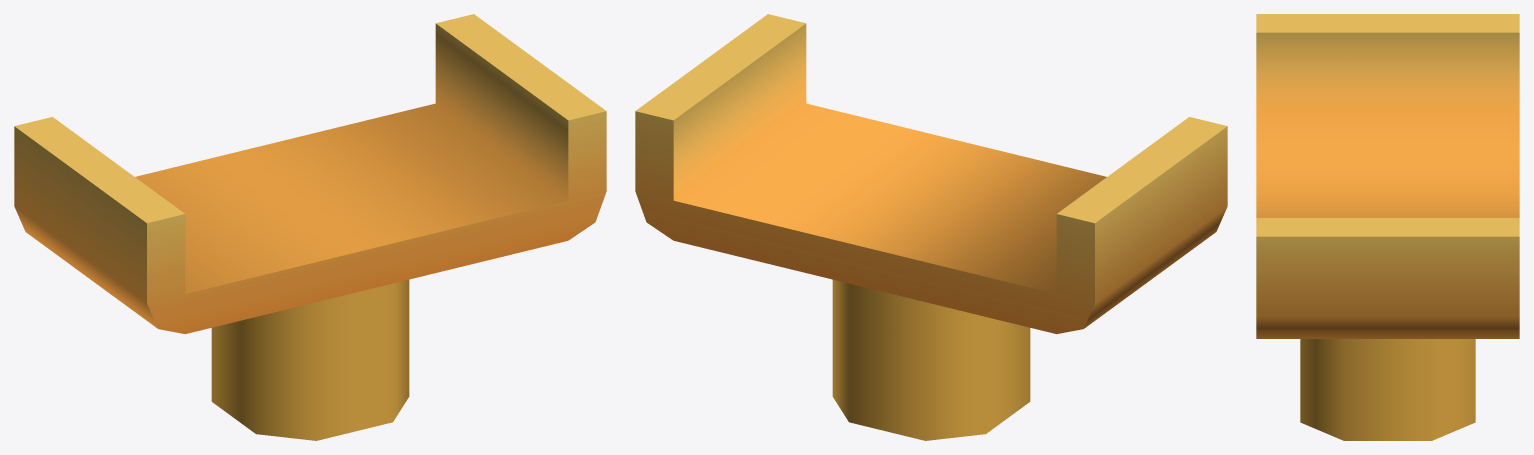
Rendered from support-color-single-top.glb.
3 renders of one model, left to right at view 1: azimuth 30°, elevation 25°; view 2: azimuth 150°, elevation 25°; view 3: azimuth 270°, elevation 25°, orthographic.
Visible parts, largest first — view 1: support-color-single-top; view 2: support-color-single-top; view 3: support-color-single-top.
Part boxes in pixels (x1=…): support-color-single-top: x1=14, y1=14, x2=606, y2=440; support-color-single-top: x1=635, y1=14, x2=1227, y2=440; support-color-single-top: x1=1256, y1=14, x2=1519, y2=440.
Bounding box in the file's own units: 1.2 × 0.7 × 0.6001.
Materials: 1 (1 with a texture image).
